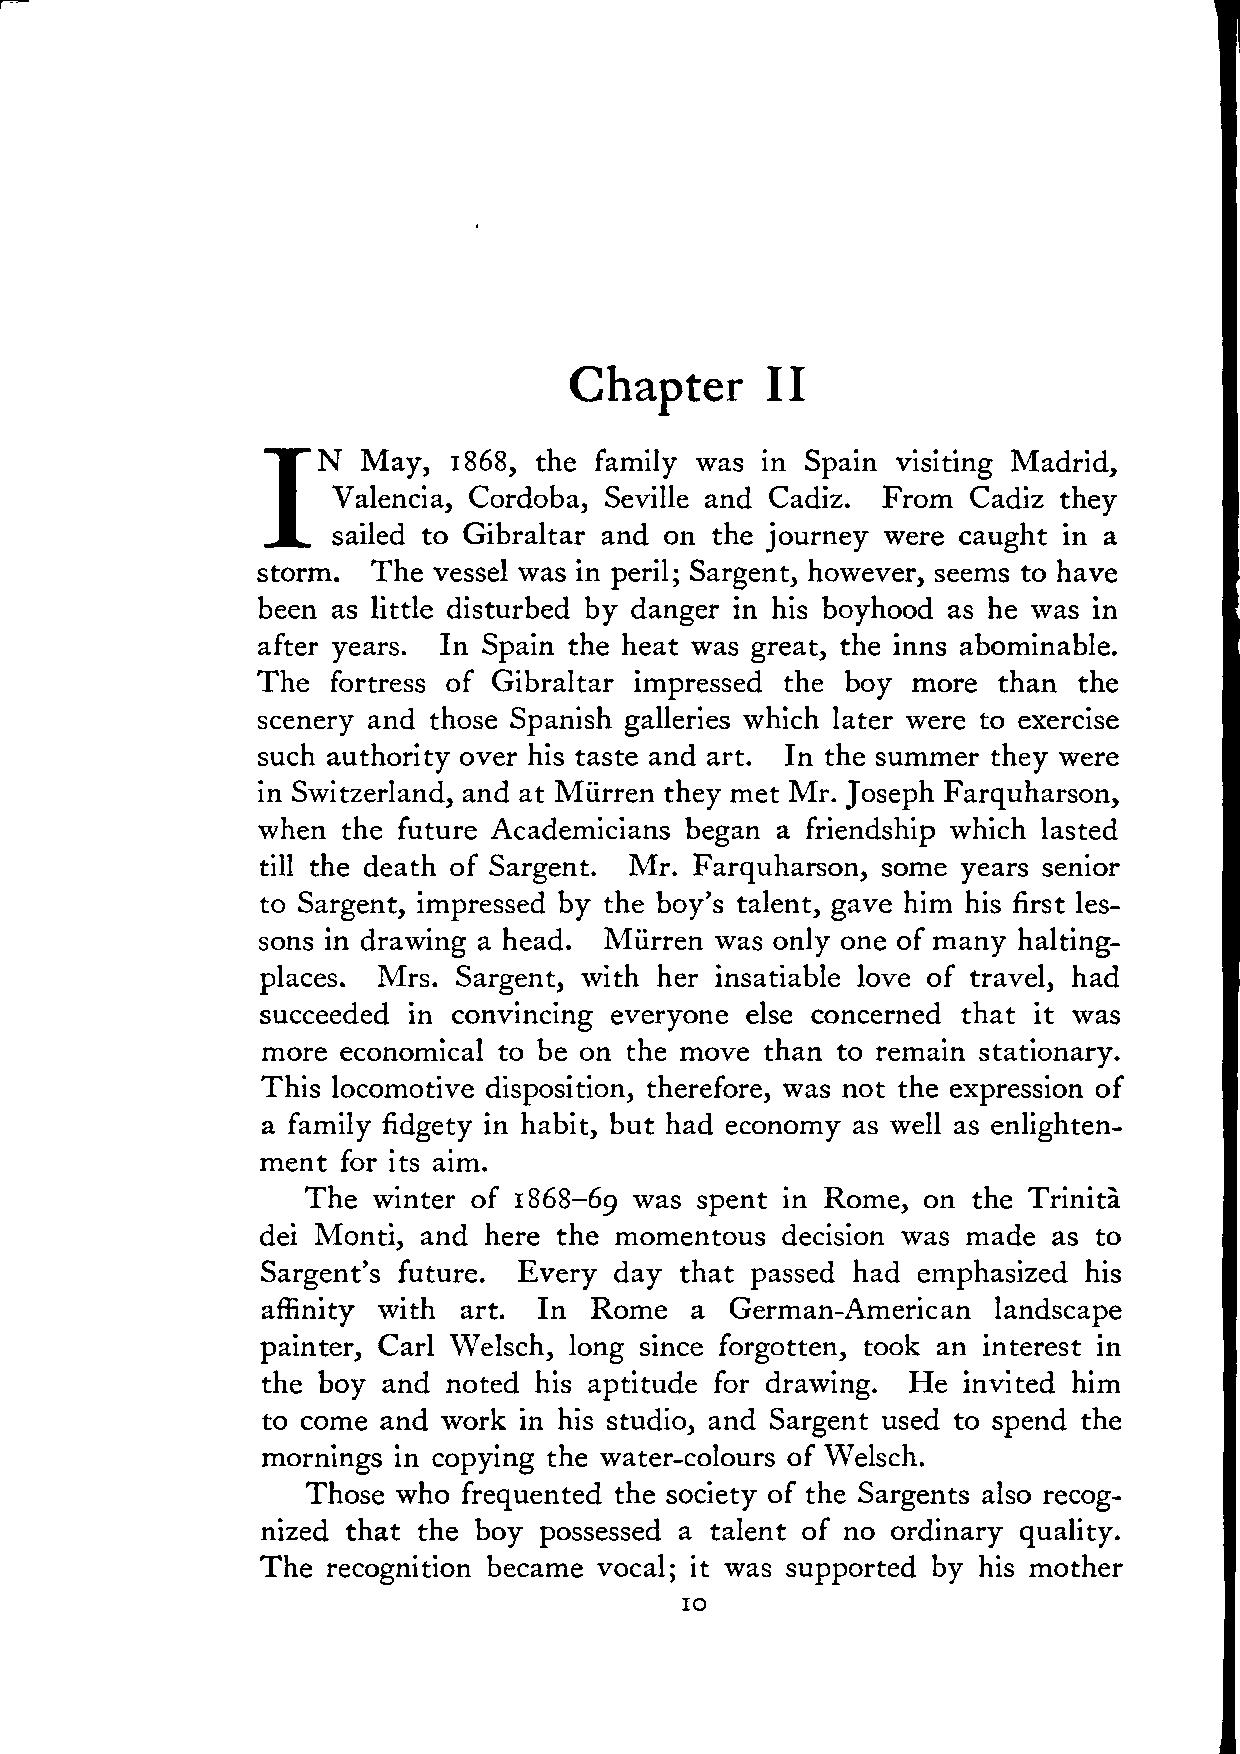chapter: (564, 358, 809, 419)
content: (256, 439, 1125, 1588)
content_pagenumber: (679, 1596, 707, 1613)
